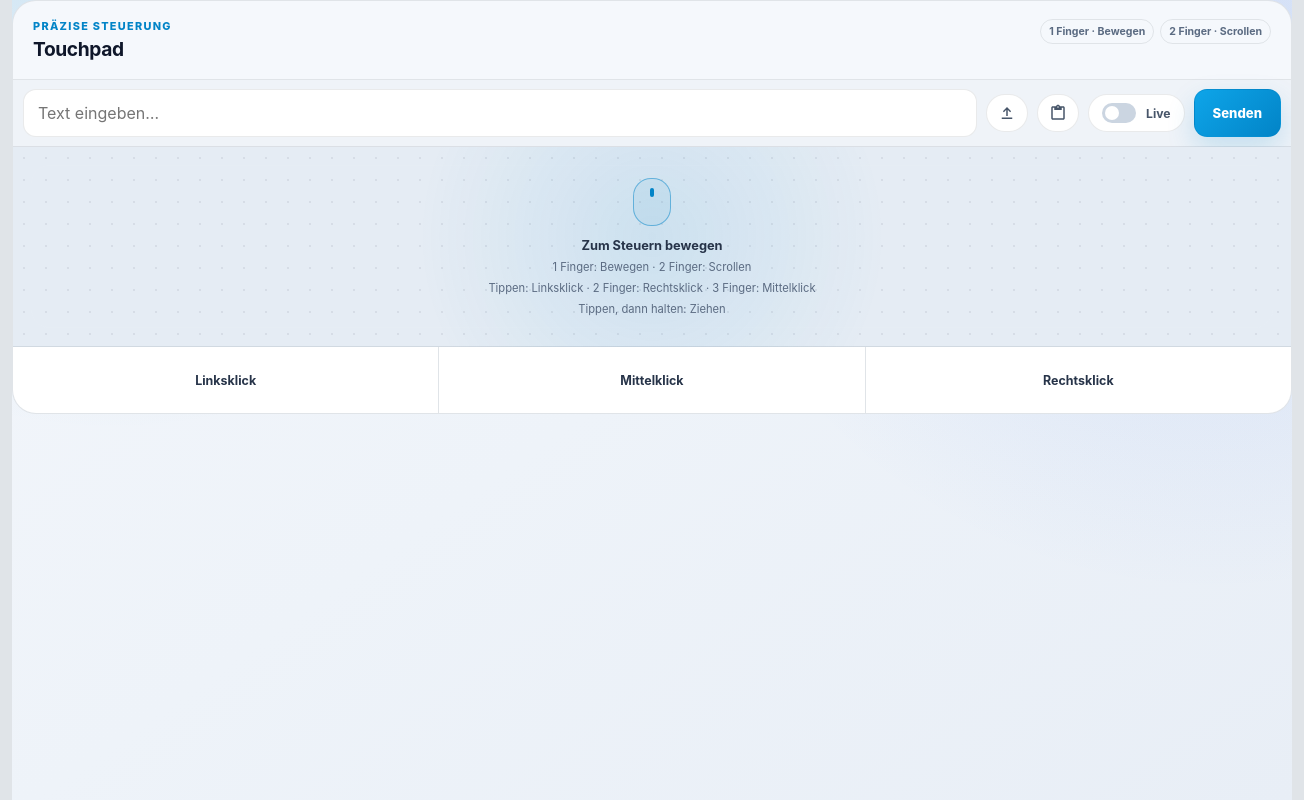
TouchpadComponent › asks for the direction on Windows and sends via the paste field
This screenshot has width=1304, height=800.
Click the button named "Zwischenablage" at (1058, 113), box [1037,94,1079,132]
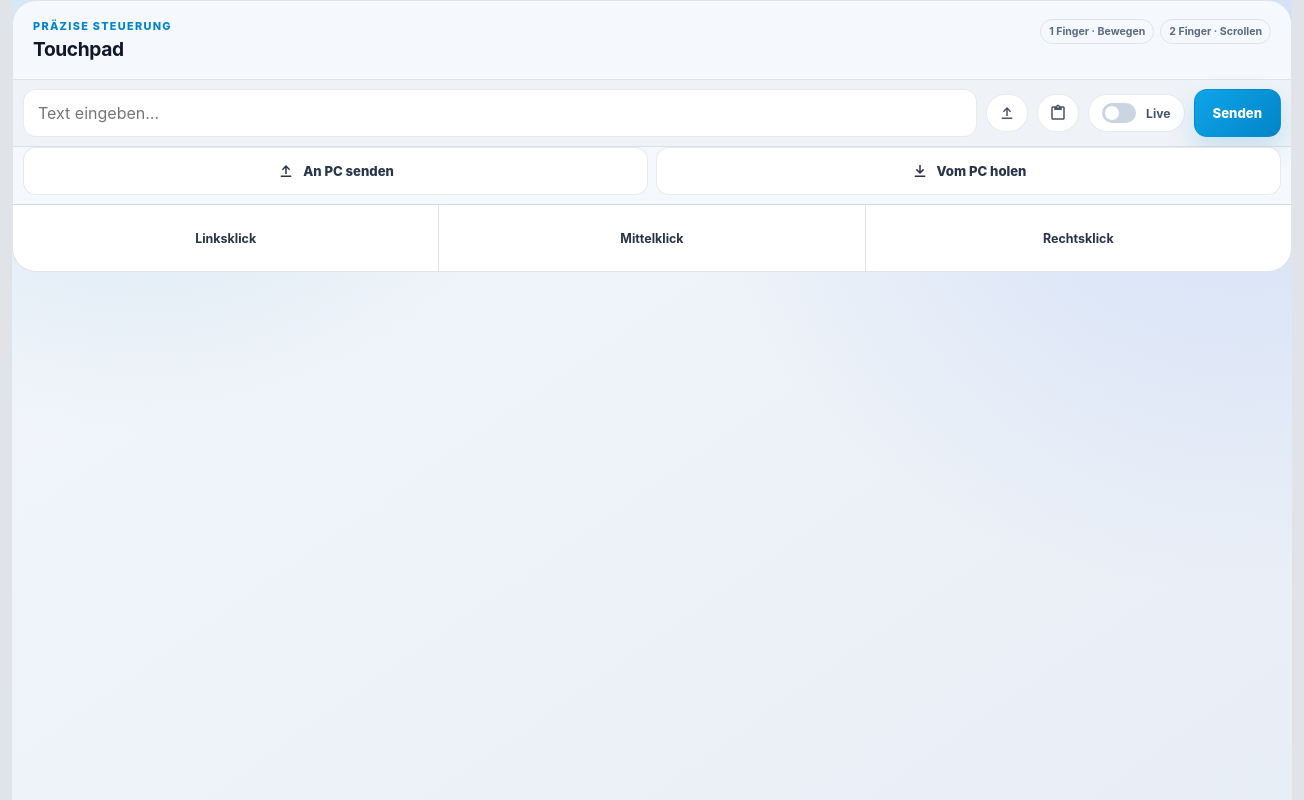
Click the button "An PC senden" at (336, 171), box [23,147,648,195]
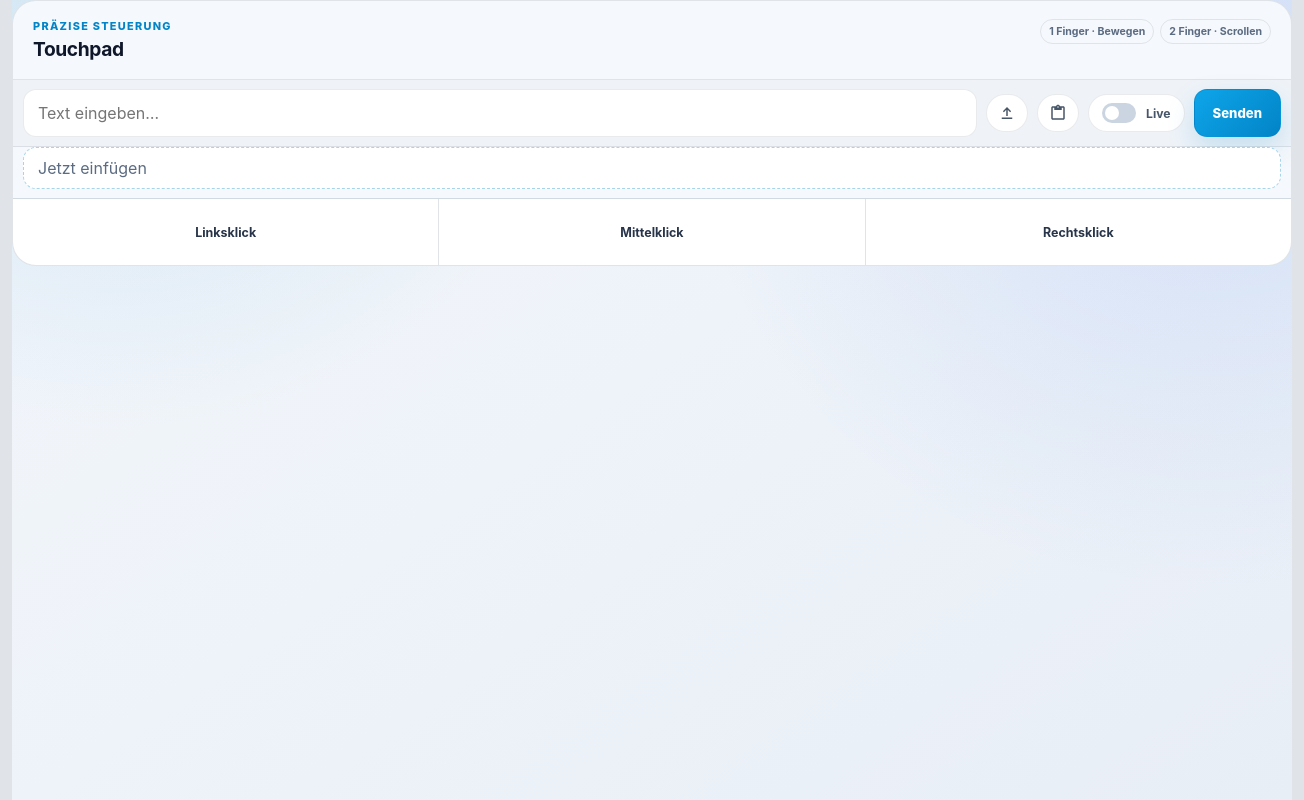
Check: the element with class "clipboard-menu" is gone
Check: the field with class "clipboard-paste-target" is shown, box [23,147,1281,189]
